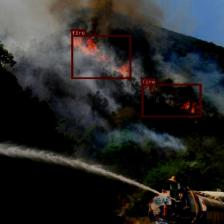fire: (71, 34, 131, 78), (142, 84, 202, 116)
